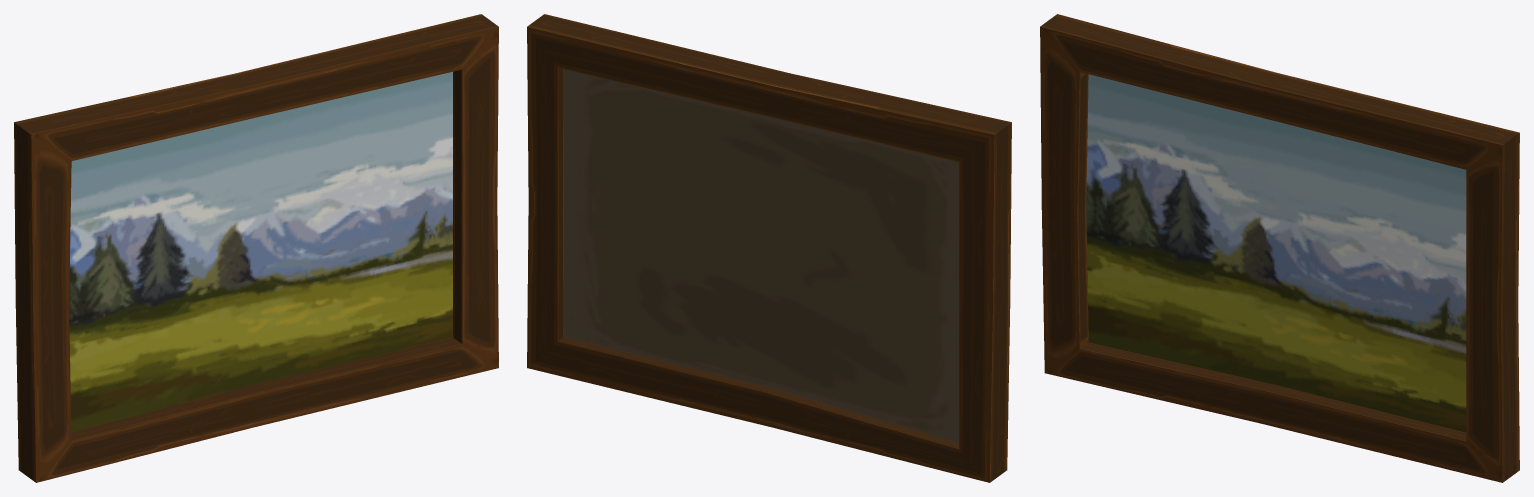
Rendered from SM_PROP_painting_city_02.fbx.
3 views of the same model, side by side, from view 1: azimuth 30°, elevation 25°; view 2: azimuth 150°, elevation 25°; view 3: azimuth 330°, elevation 25° (orthographic).
Parts seen in each view (by area): view 1: SM_PROP_painting_city_02; view 2: SM_PROP_painting_city_02; view 3: SM_PROP_painting_city_02.
Part boxes in pixels (x1,y1,x2,y2): SM_PROP_painting_city_02: (14,14,498,482); SM_PROP_painting_city_02: (527,14,1011,482); SM_PROP_painting_city_02: (1040,14,1519,482).
Size of the model in its own units: 141 by 100 by 9.1.
